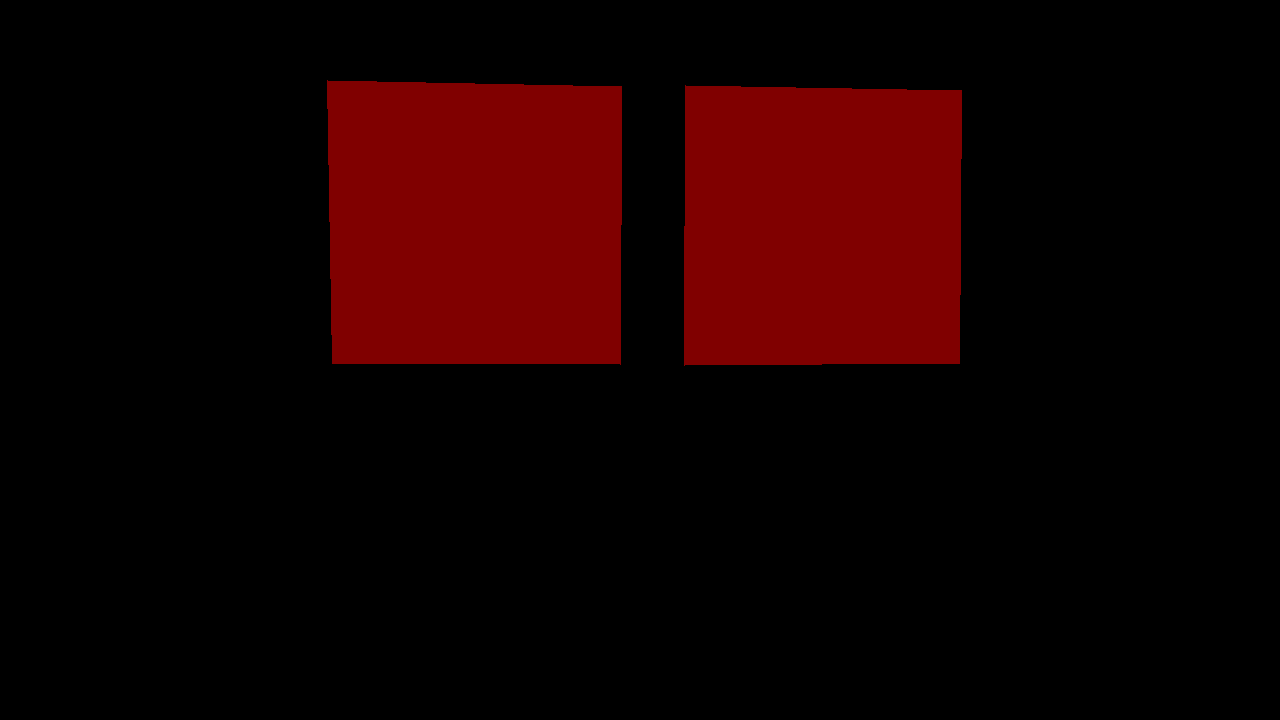door: (327, 80, 621, 364), (684, 85, 961, 365)
